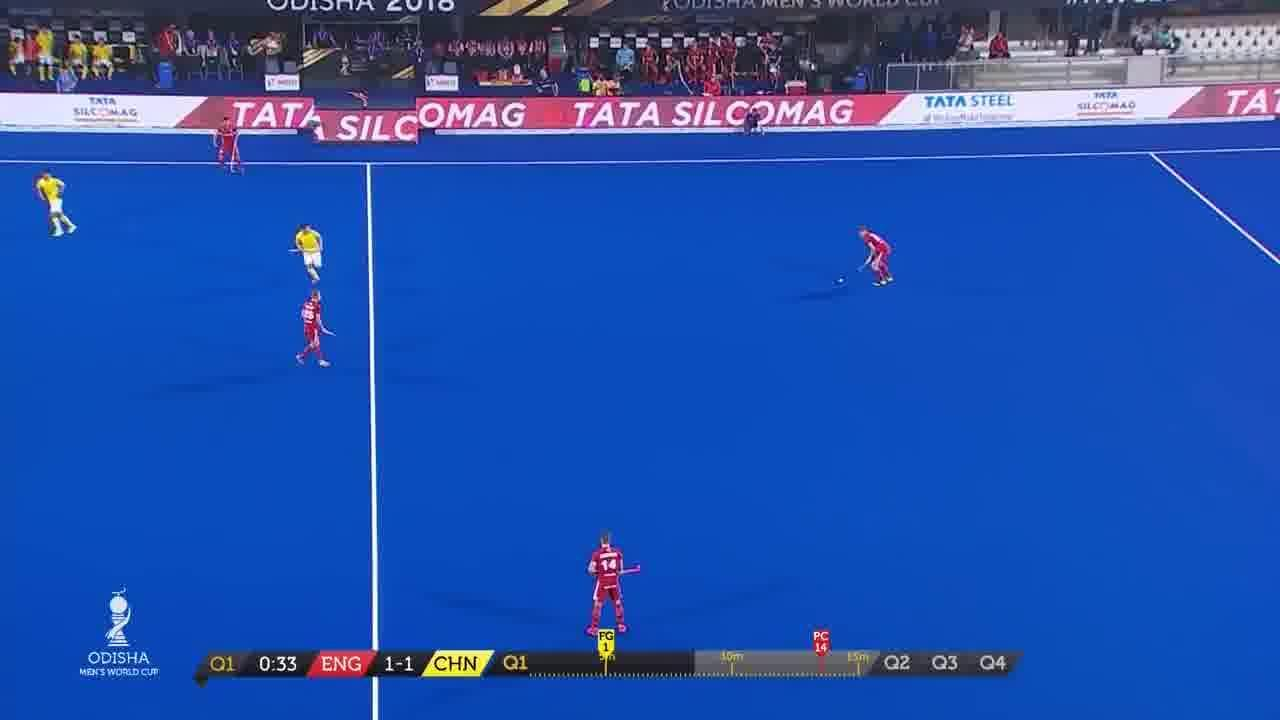ball: (838, 268, 848, 292)
